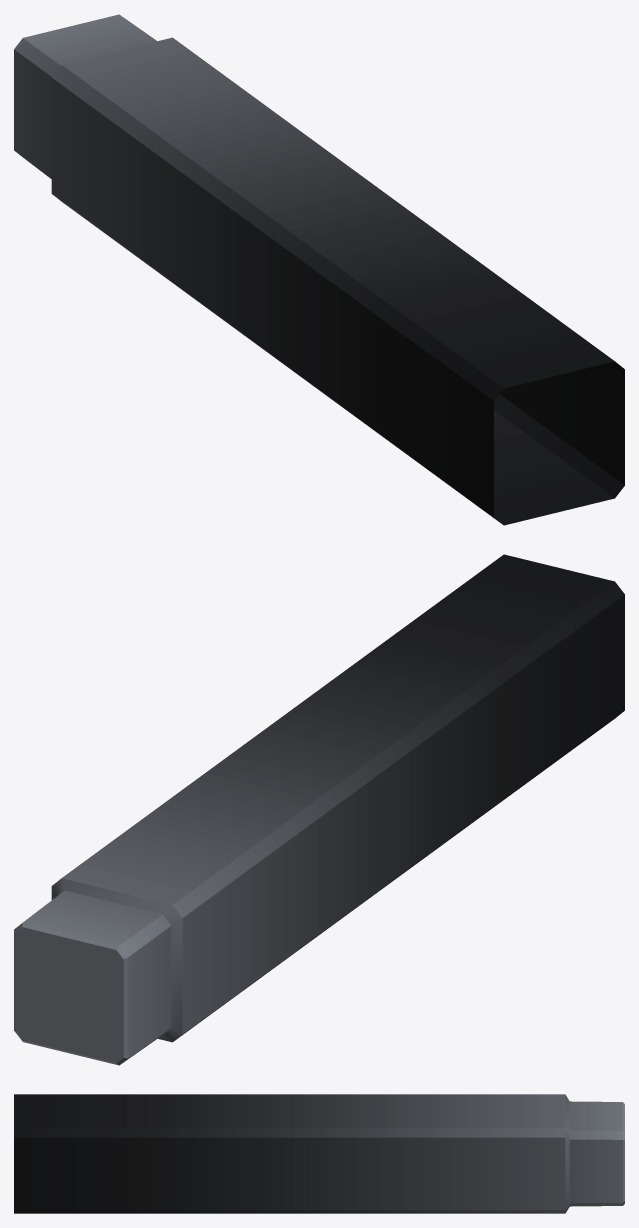
Rendered from Low Parapet Corner Base 01.FBX.
3 renders of one model, top to bottom at view 1: azimuth 30°, elevation 25°; view 2: azimuth 150°, elevation 25°; view 3: azimuth 270°, elevation 25°, orthographic. The views are drawn at different scales.
Parts seen in each view (by area): view 1: Low Parapet Corner Base 01; view 2: Low Parapet Corner Base 01; view 3: Low Parapet Corner Base 01.
Part boxes in pixels (x1,y1,x2,y2): Low Parapet Corner Base 01: (14, 14, 624, 525); Low Parapet Corner Base 01: (14, 554, 624, 1065); Low Parapet Corner Base 01: (14, 1094, 624, 1213).
Bounding box in the file's own units: 122 × 122 × 793.
